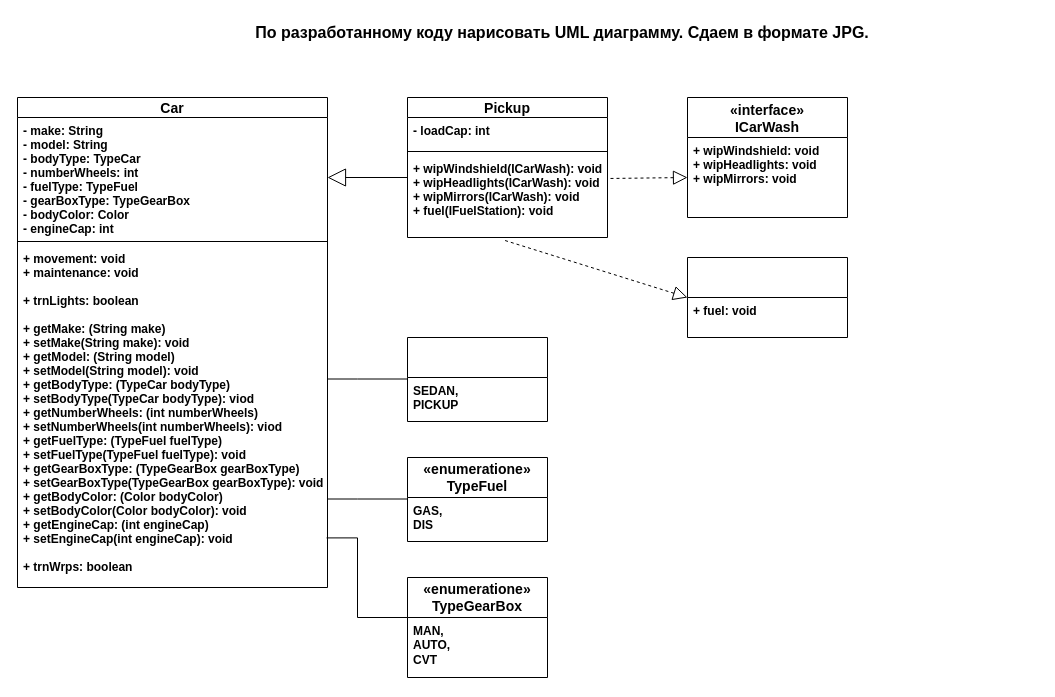
Image size: 1055x697. Some labels were removed from this diagram. The shapes that lost their labels are listed below. From the top down, each one's box as (x1, y1, x2, y2) in pixels, then its label:
(686, 256, 848, 338): «interface» IFuelStation
(406, 336, 548, 422): «enumeratione» TypeCar
